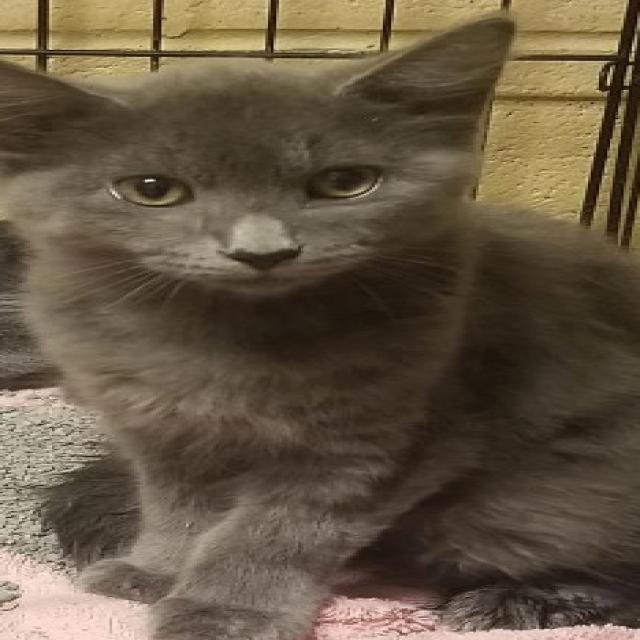Russian Blue: (0, 8, 640, 640)
